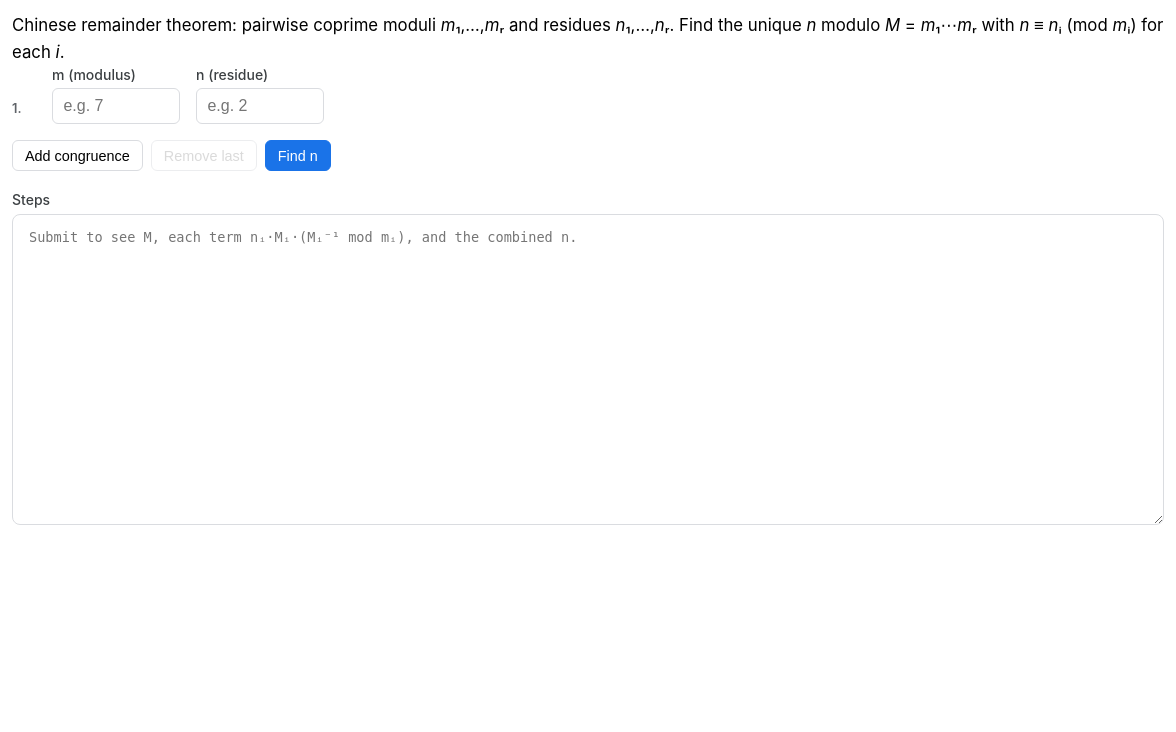
Test: ChineseRemainderPage › shows error when moduli are not coprime
The width and height of the screenshot is (1176, 732).
Type "4" into the field named "modulus m for congruence 1" at (116, 106), box [52,88,180,124]
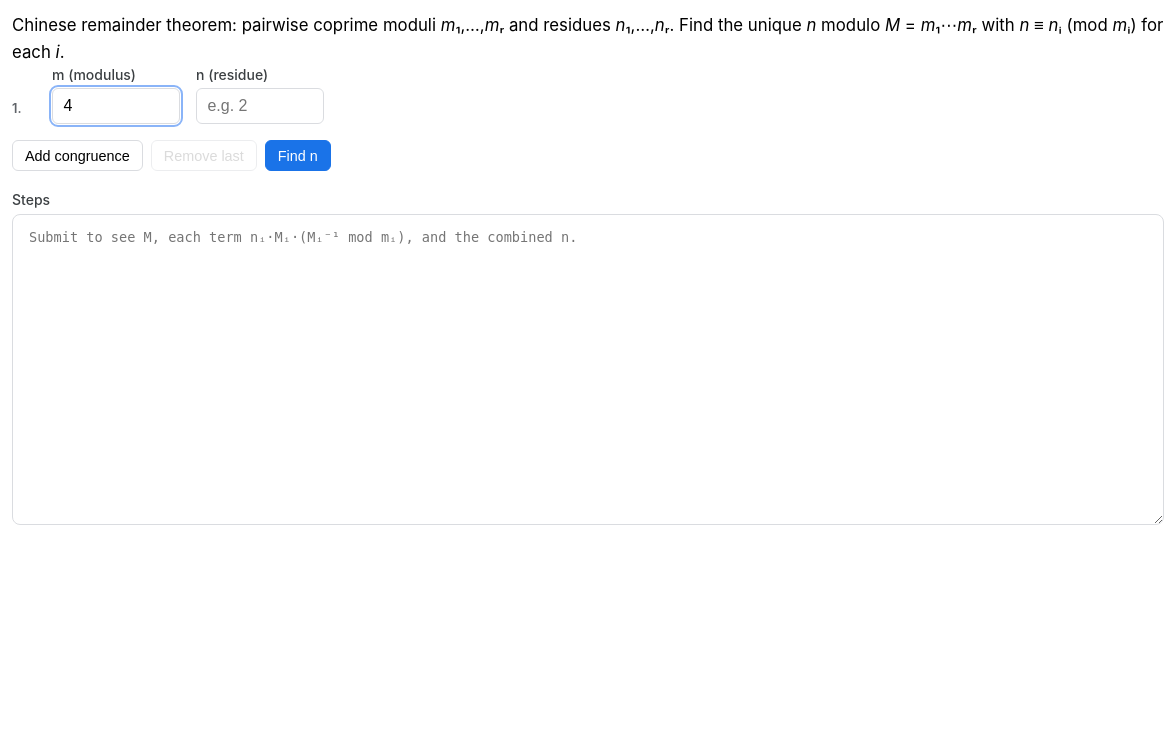
Type "1" into the field named "residue n for congruence 1" at (260, 106), box [196,88,324,124]
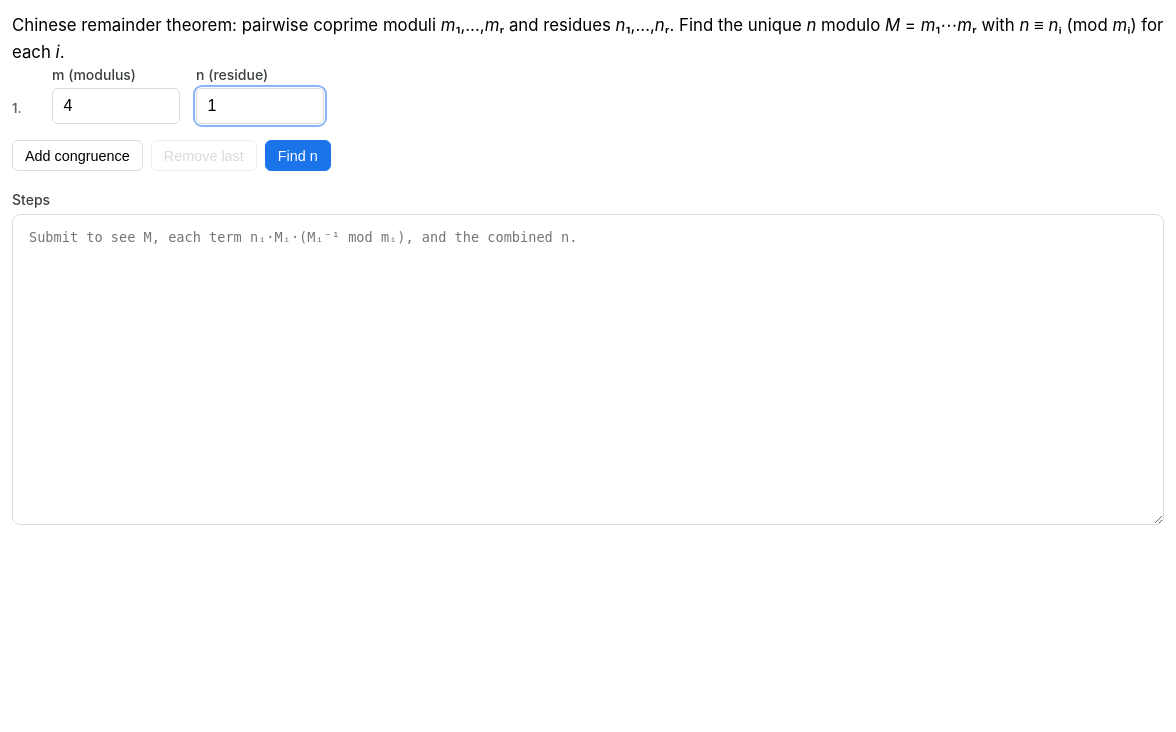
Click the button "Add congruence" at (77, 156), box [12,140,143,171]
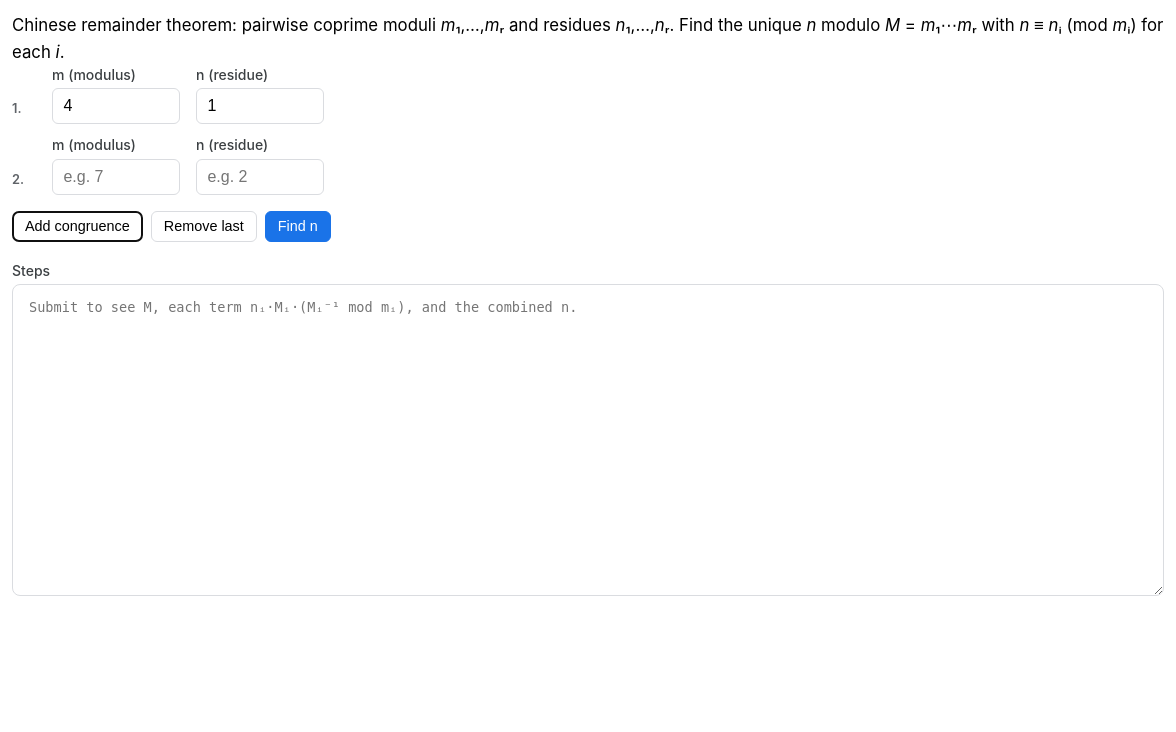
Type "6" into the field named "modulus m for congruence 2" at (116, 177), box [52,159,180,195]
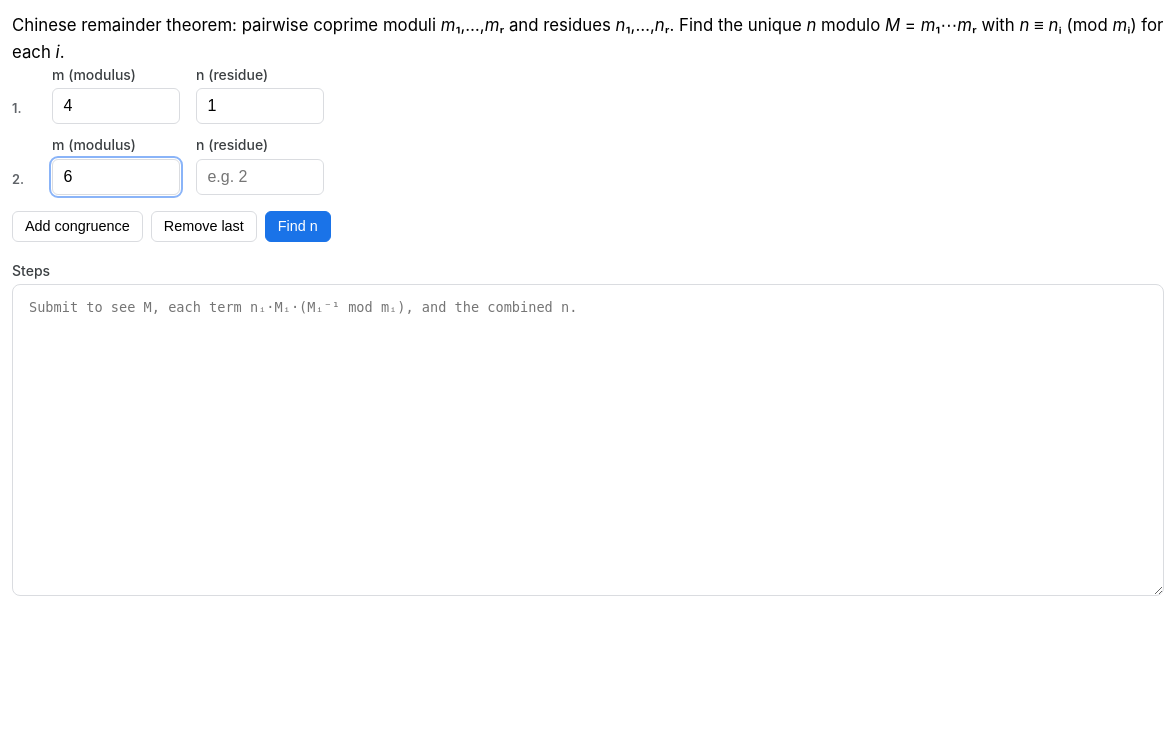
Type "1" into the field named "residue n for congruence 2" at (260, 177), box [196,159,324,195]
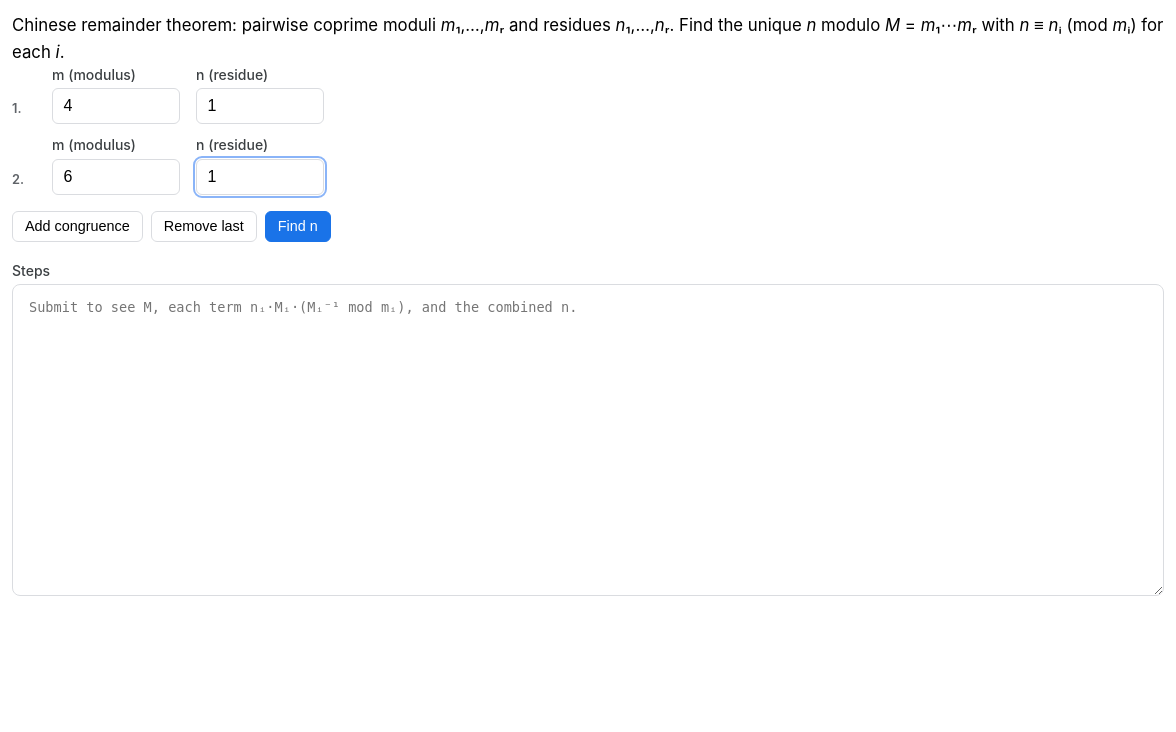
Click the button "Find n" at (298, 226), box [265,211,331,242]
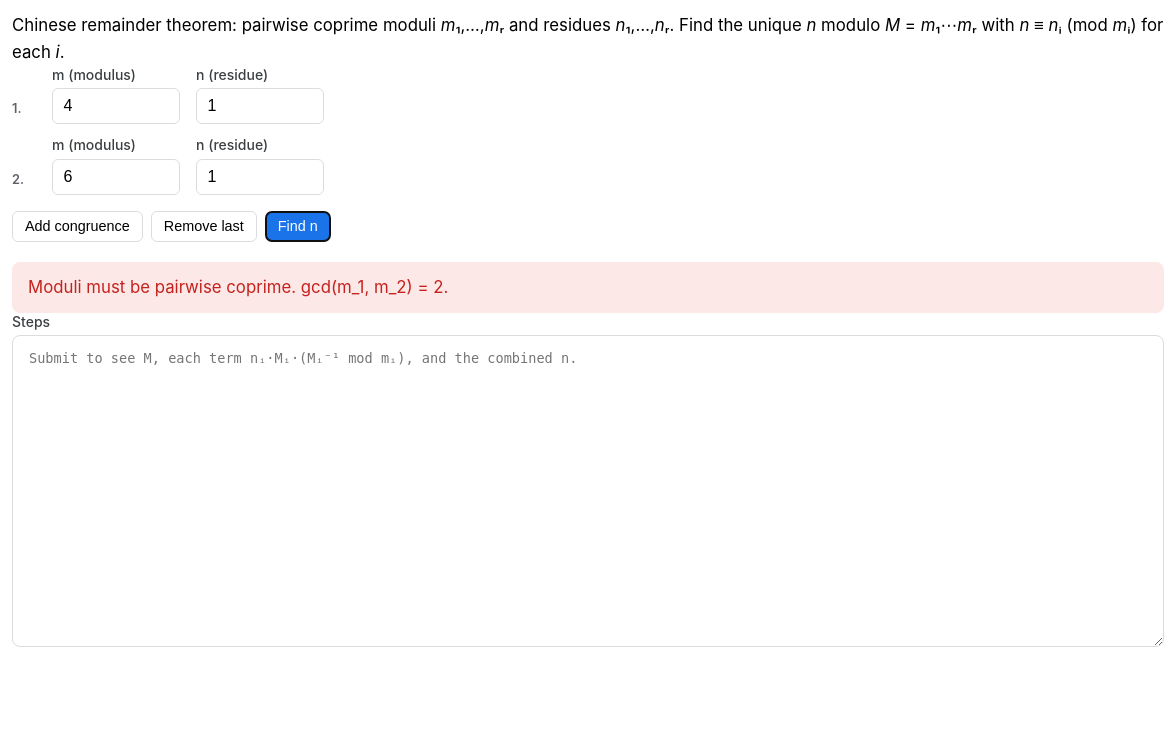
Now the message shows "coprime", box [28,277,448,297]
